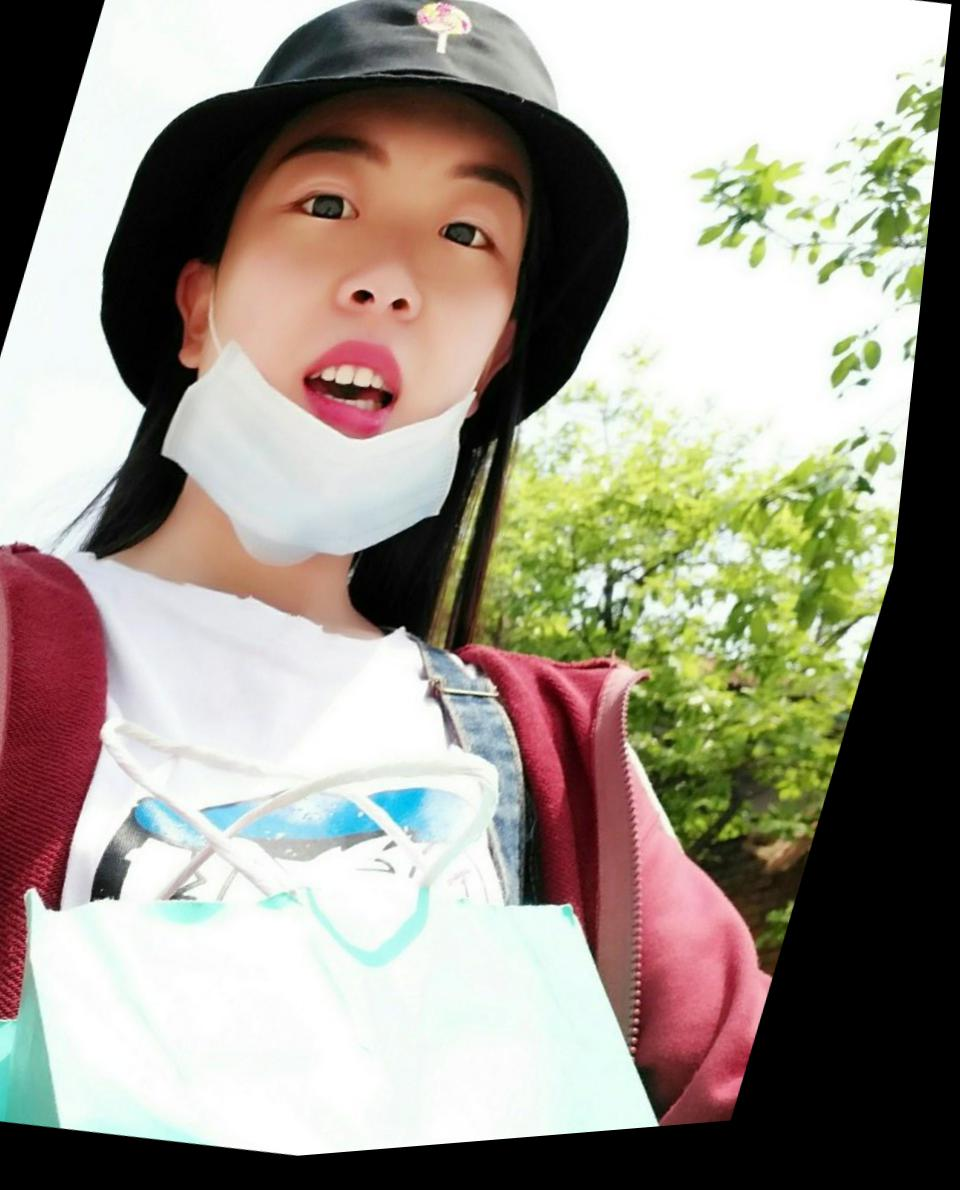WRONG: (149, 94, 583, 579)
